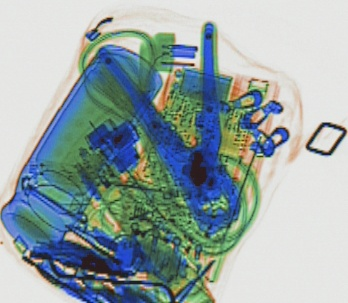metalcup: (1, 40, 163, 257)
qianzi: (99, 19, 241, 235)
